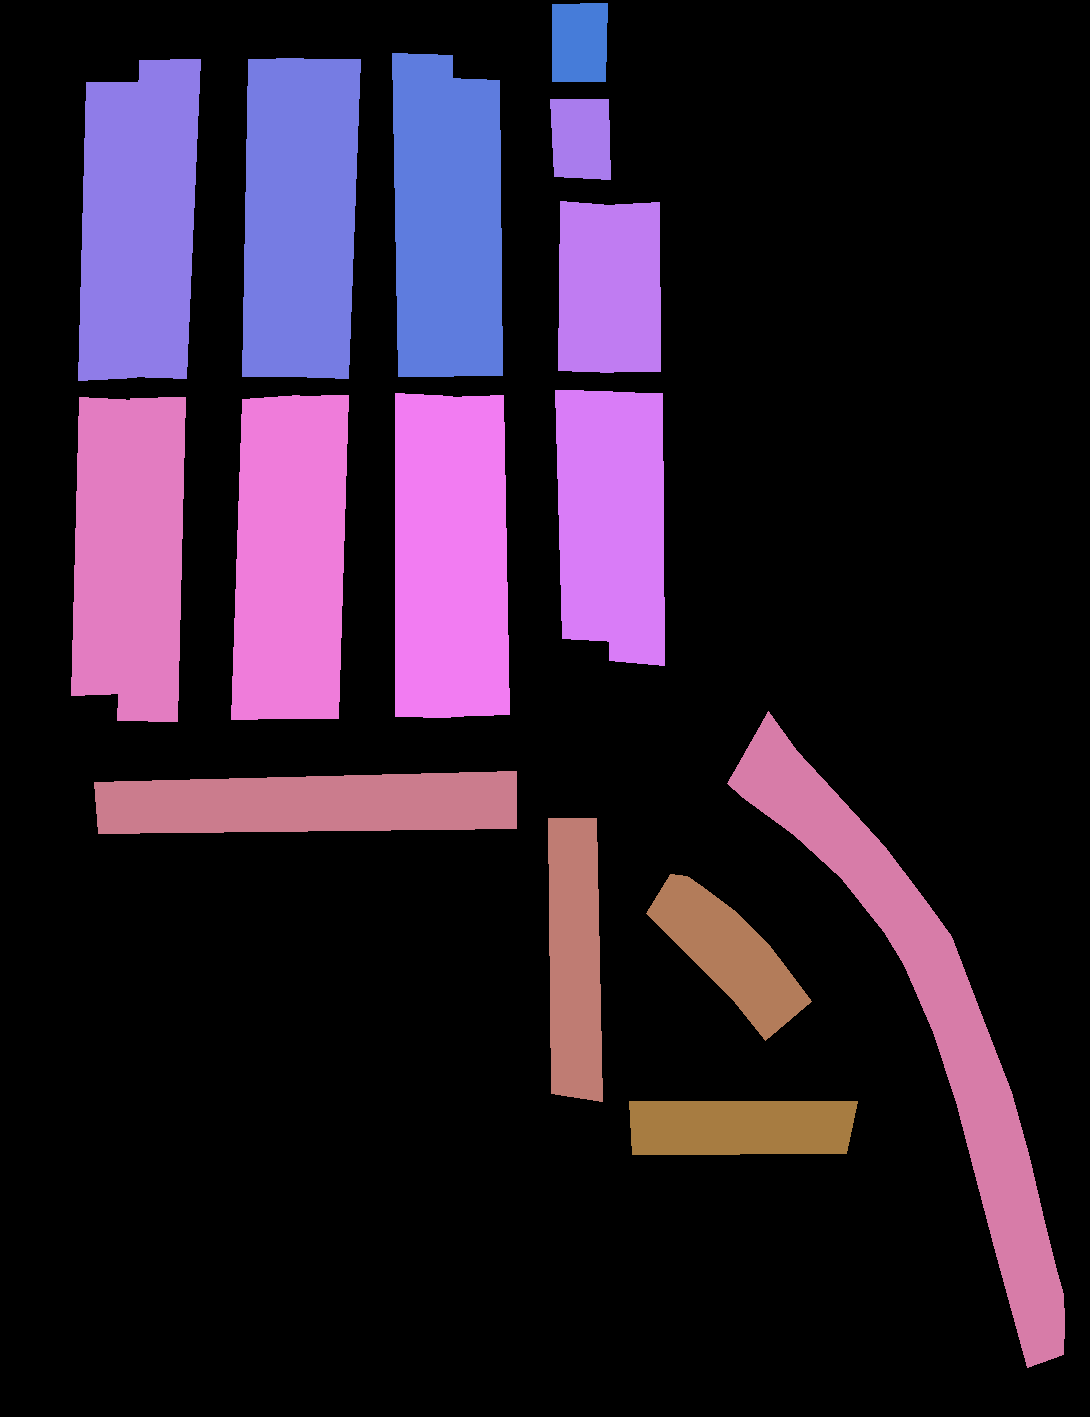parkingspot: (727, 711, 1064, 1367), (646, 874, 811, 1040), (94, 771, 516, 833), (117, 397, 185, 721), (131, 60, 200, 378), (231, 395, 299, 719), (292, 60, 360, 378), (283, 395, 348, 718), (447, 395, 510, 717), (392, 53, 453, 377), (78, 82, 144, 380), (242, 58, 303, 377), (71, 397, 135, 695), (395, 393, 452, 717), (447, 78, 501, 375), (607, 391, 664, 665), (548, 818, 602, 1101), (555, 390, 615, 641), (629, 1101, 856, 1154), (558, 201, 613, 372), (605, 201, 659, 371), (550, 98, 610, 179), (552, 3, 607, 81)
